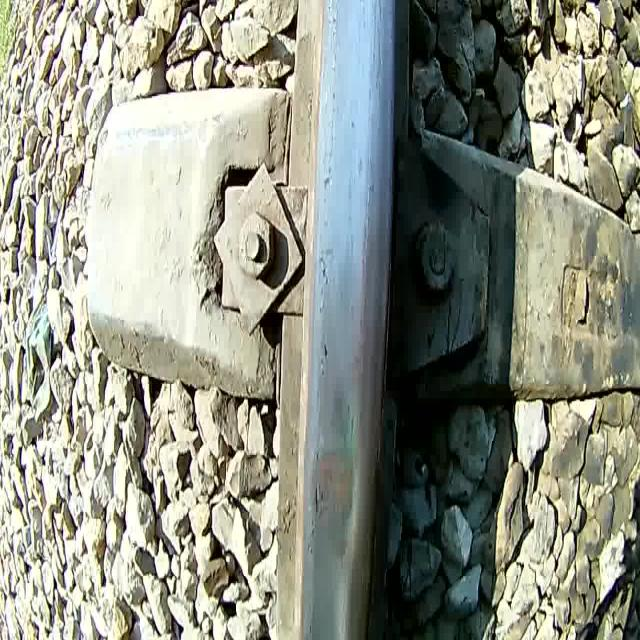Squats: (311, 373, 359, 569)
